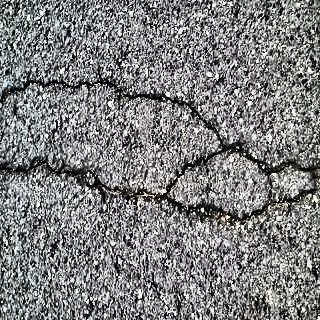crack: (3, 64, 224, 146), (173, 152, 320, 235), (3, 152, 160, 215)
